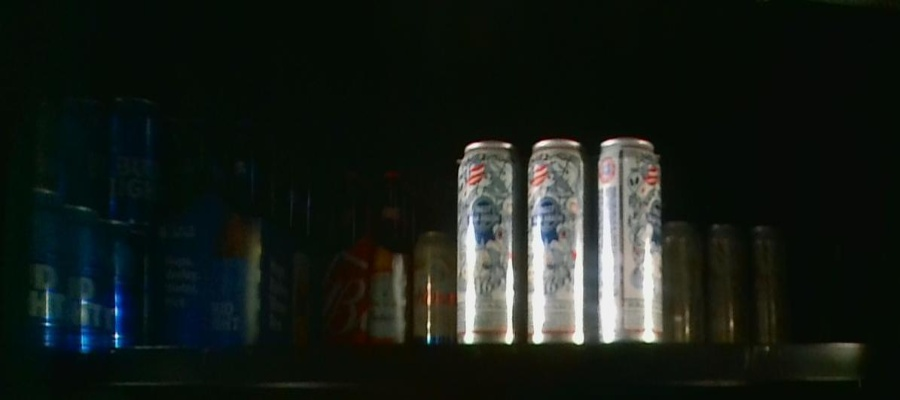bottle: (456, 140, 661, 351), (11, 99, 154, 341), (159, 120, 310, 341), (314, 155, 410, 347), (663, 215, 788, 346), (407, 229, 453, 351)
